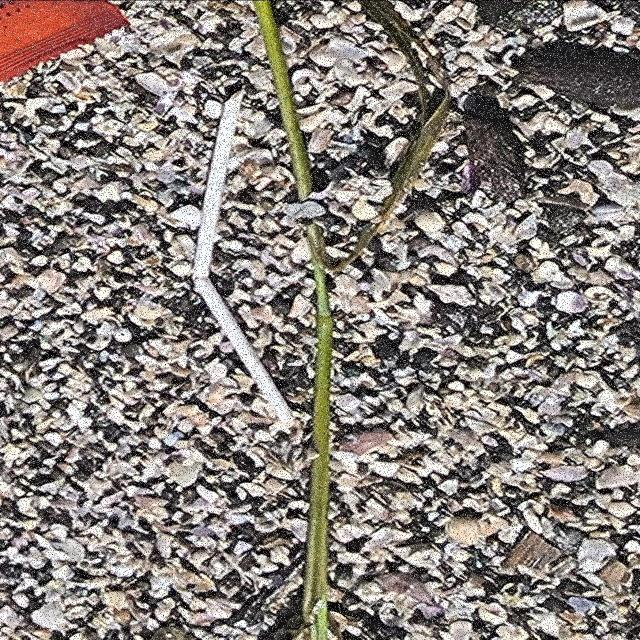plastic_waste: (189, 88, 300, 424)
